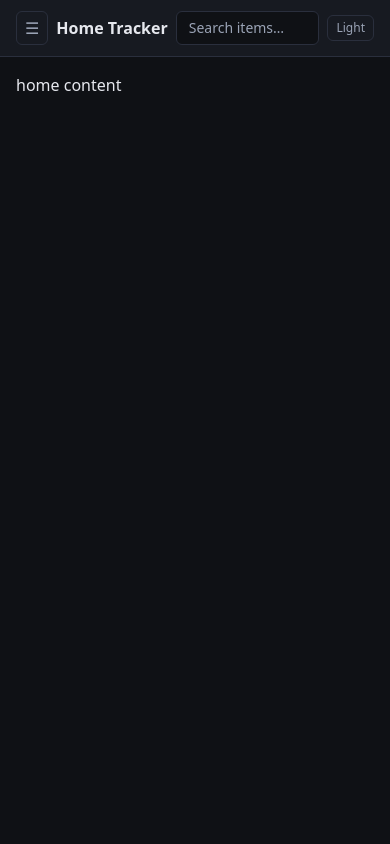
Test: PageTemplate drawer › opens from the hamburger and closes from the backdrop
The width and height of the screenshot is (390, 844).
What coordinates should you click on to do the following:
click the button named "Open locations"
I would click on:
 (32, 28)
Its box is [16,11,48,45].
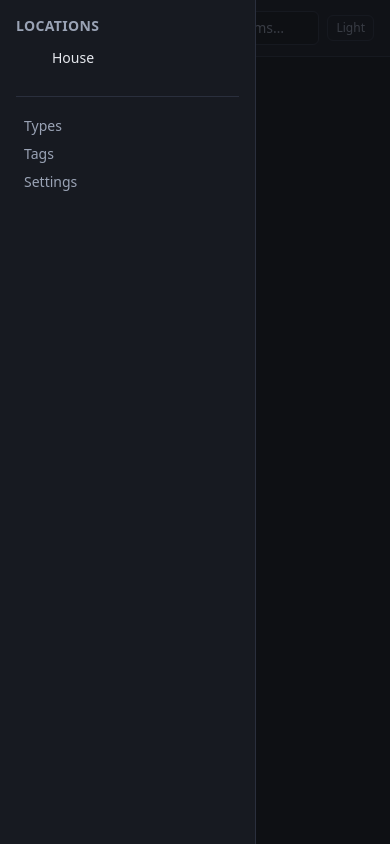
Expected: the button named "Open locations" is expanded, [16,11,48,45]
What coordinates should you click on to do the following:
click the button named "Close locations"
I would click on:
 (367, 422)
Its box is [0,0,389,843].
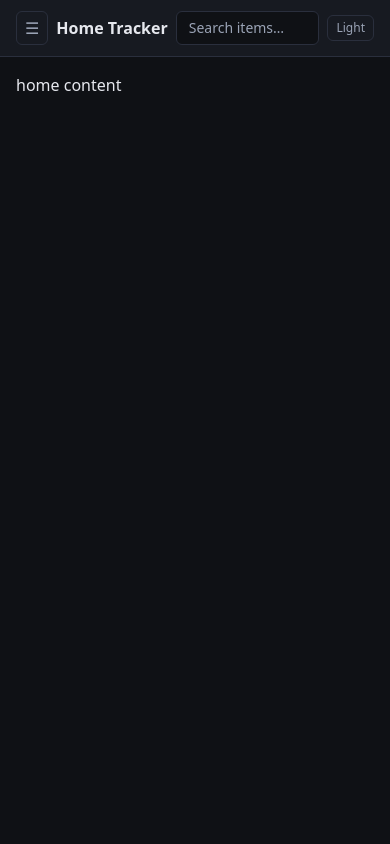
Expected: the button "Close locations" is gone
Expected: the button named "Open locations" is collapsed, [16,11,48,45]
